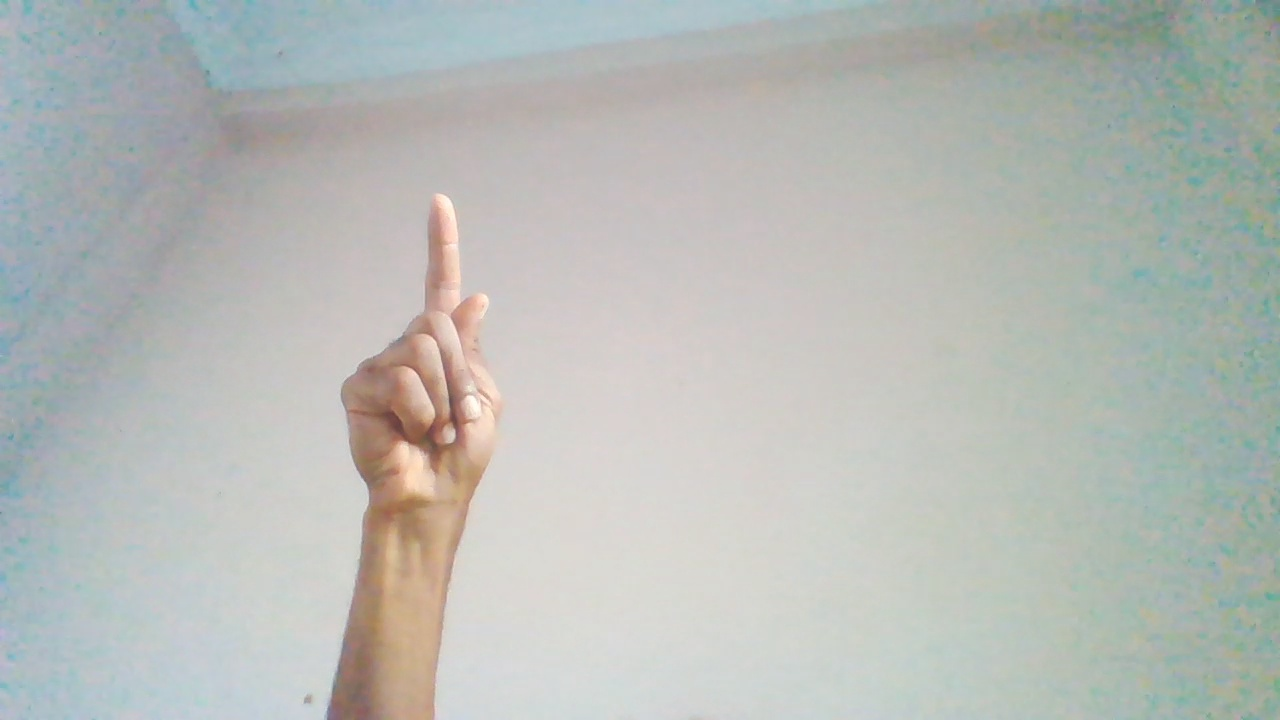ne: (342, 194, 507, 565)
